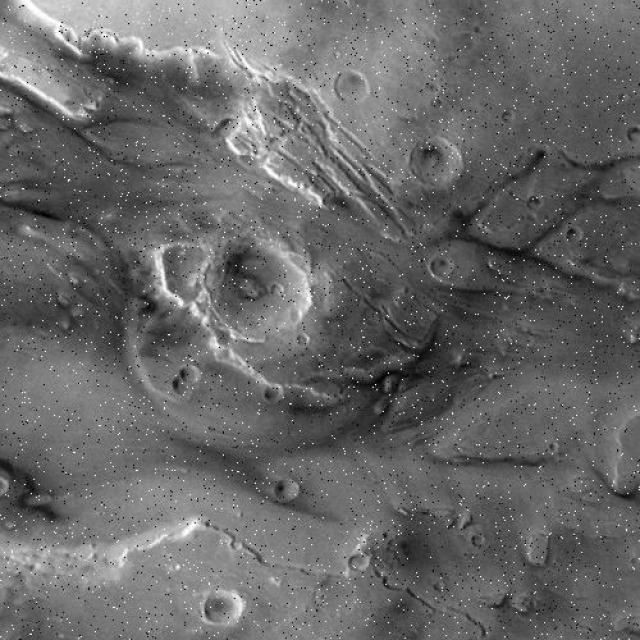crater: (202, 227, 316, 343), (407, 133, 469, 195), (331, 538, 383, 582), (202, 584, 246, 628), (334, 66, 371, 108), (458, 522, 506, 554), (518, 187, 552, 220), (562, 228, 602, 252), (273, 475, 303, 503), (0, 209, 22, 247), (613, 122, 640, 152), (0, 392, 22, 428), (429, 252, 457, 280), (494, 101, 524, 127), (0, 476, 18, 510), (0, 374, 19, 406), (179, 362, 202, 386), (0, 308, 16, 341), (0, 309, 16, 339), (430, 574, 453, 594), (614, 90, 636, 110), (0, 274, 13, 300), (549, 628, 575, 640), (0, 364, 10, 389), (633, 15, 640, 44)
